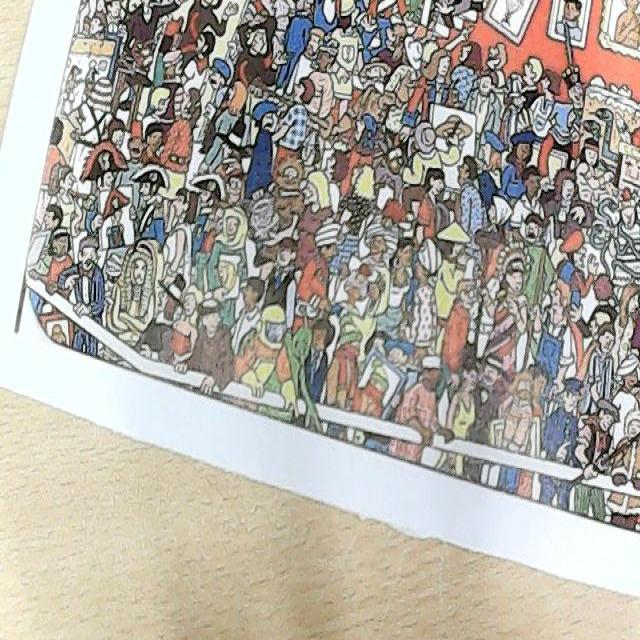waldo: (222, 159, 242, 209)
